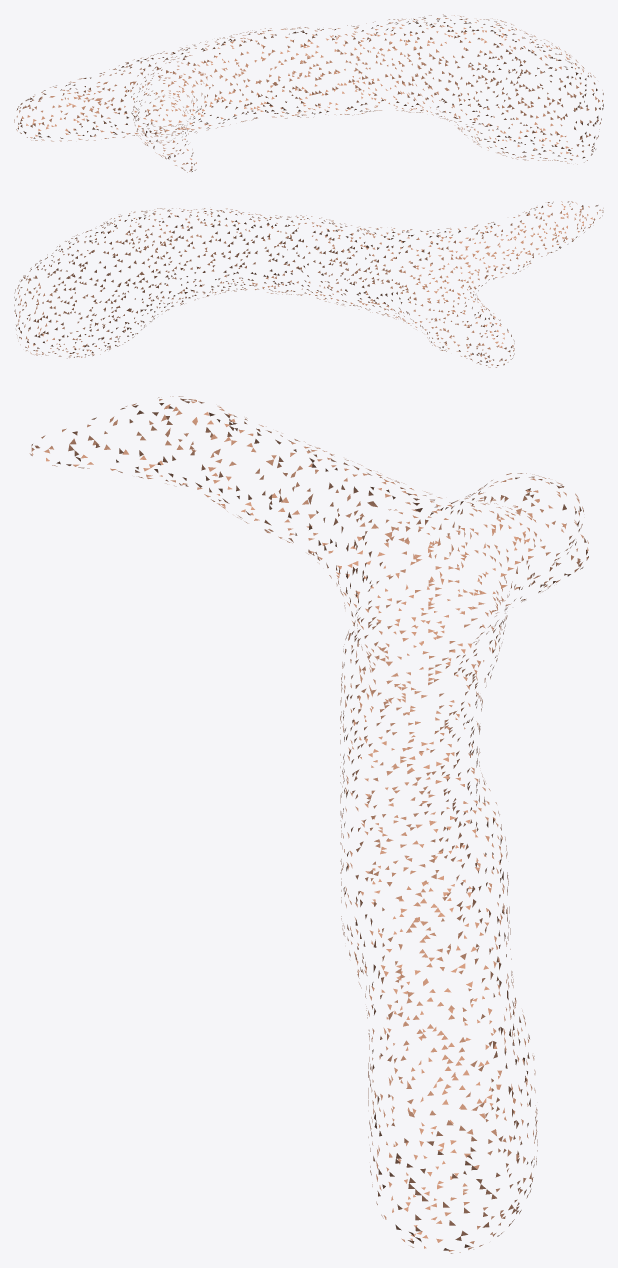
File: morph_004.glb
The picture shows the model from 3 angles, top to bottom: view 1: azimuth 30°, elevation 25°; view 2: azimuth 150°, elevation 25°; view 3: azimuth 270°, elevation 25°; orthographic projection. The views are drawn at different scales.
Bounding box in the file's own units: 124 × 48.72 × 59.08.
